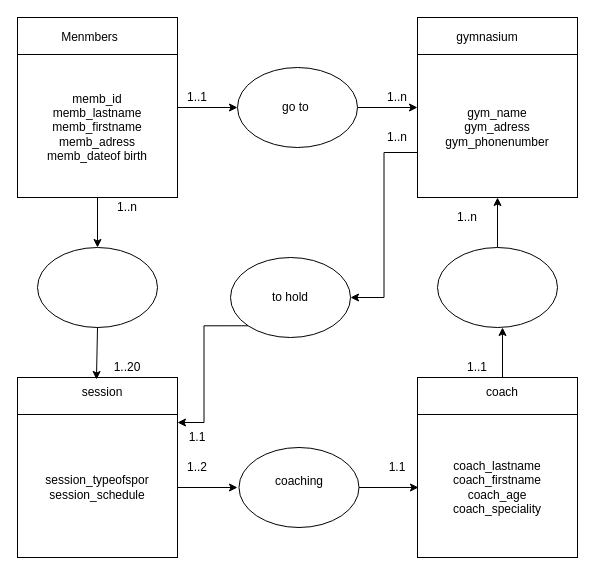
Some shapes in this 595 by 575 pixel diagram are drawn without their labels. Each missing label, with the centre of its shape:
to register in: (x=97, y=287)
work in a: (x=497, y=287)
